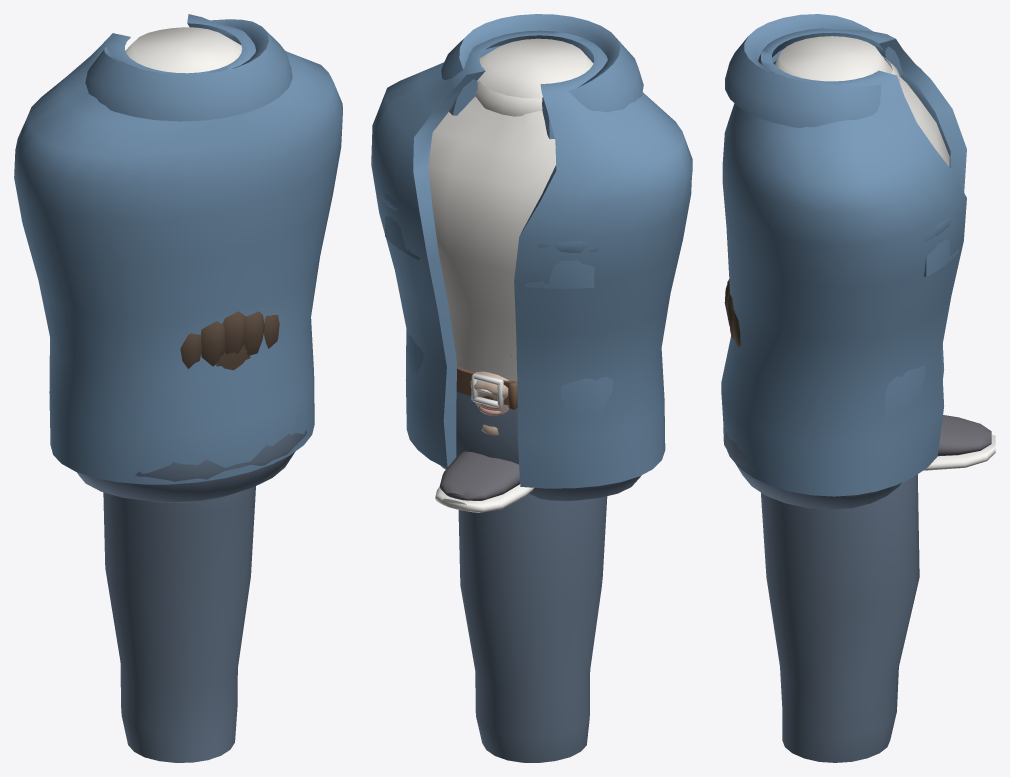
Rendered from Character_CasualMale.fbx.
The picture shows the model from 3 angles, left to right: view 1: azimuth 30°, elevation 25°; view 2: azimuth 150°, elevation 25°; view 3: azimuth 270°, elevation 25°; orthographic projection. The views are drawn at different scales.
Visible parts, largest first — view 1: Part_Chest, Part_L_Thigh, Part_Pelvis, Part_Head; view 2: Part_Chest, Part_L_Thigh, Part_Pelvis, Part_L_Foot, Part_Head; view 3: Part_Chest, Part_L_Thigh, Part_L_Foot, Part_Pelvis, Part_Head.
Boxes of the visible parts, box(x1,y1,x2,y2) form: Part_Chest: box(14, 14, 342, 484); Part_L_Thigh: box(103, 486, 255, 762); Part_Pelvis: box(76, 430, 306, 502); Part_Head: box(180, 311, 279, 370); Part_Chest: box(371, 14, 692, 488); Part_L_Thigh: box(458, 493, 607, 762); Part_Pelvis: box(441, 365, 641, 501); Part_L_Foot: box(435, 451, 533, 512); Part_Head: box(468, 345, 511, 435); Part_Chest: box(721, 14, 966, 496); Part_L_Thigh: box(761, 474, 919, 762); Part_L_Foot: box(923, 415, 995, 470); Part_Pelvis: box(723, 427, 901, 509); Part_Head: box(724, 279, 740, 346).
Size of the model in its own units: 0.4413 by 0.972 by 0.3475.
